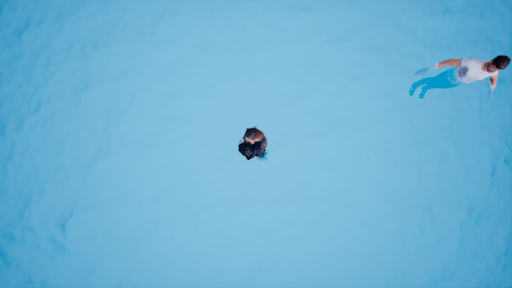person: (408, 52, 509, 102), (233, 127, 275, 162)
